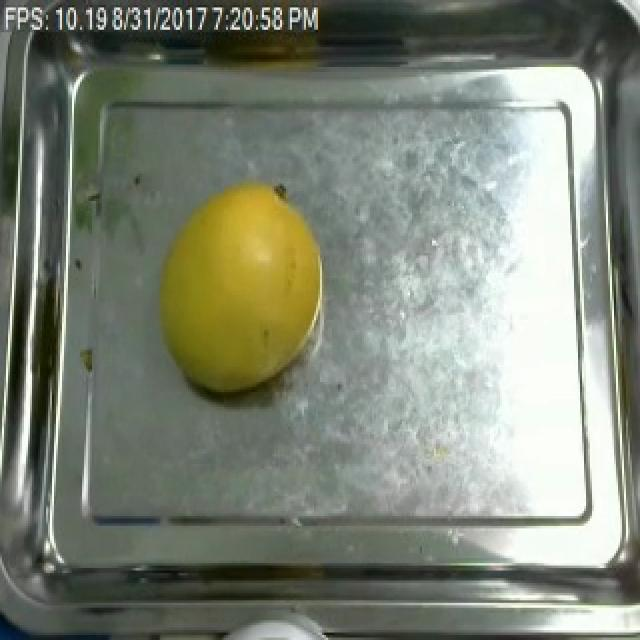fruit: (142, 169, 334, 407)
